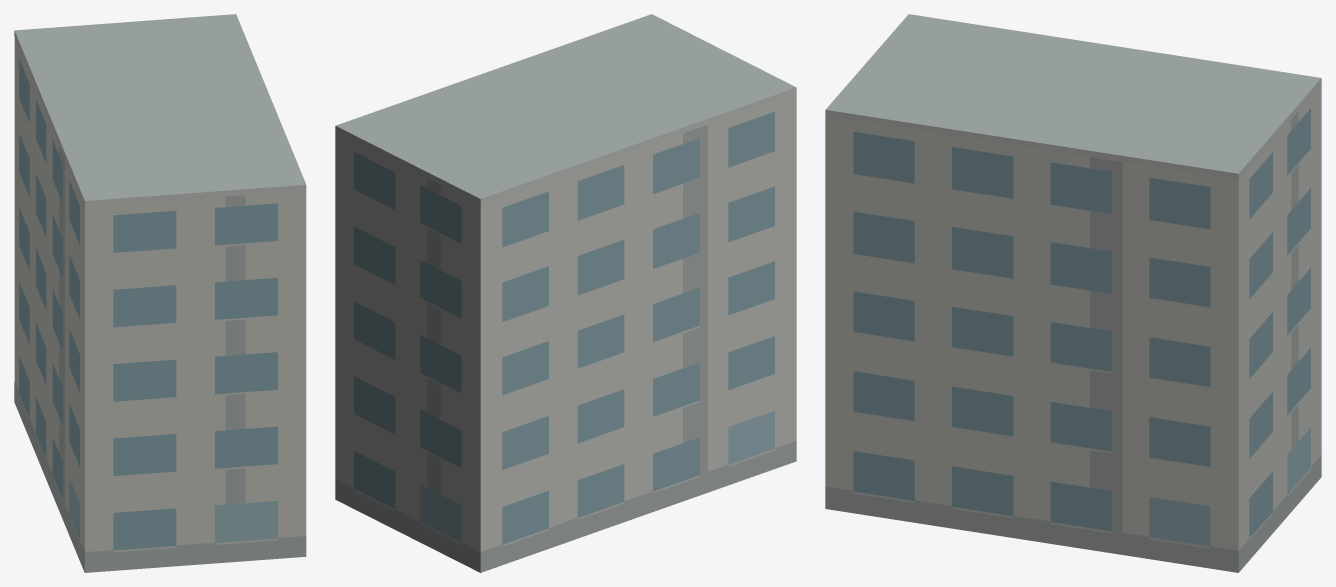
File: residential-6ae58ee1-4b14-4a25-afb3-ebea91efd23b.glb
3 views of the same model, side by side, from view 1: azimuth 30°, elevation 25°; view 2: azimuth 150°, elevation 25°; view 3: azimuth 270°, elevation 25° (orthographic). The views are drawn at different scales.
Visible parts, largest first — view 1: residential-6ae58ee1-4b14-4a25-afb3-ebea91efd23b.tmp; view 2: residential-6ae58ee1-4b14-4a25-afb3-ebea91efd23b.tmp; view 3: residential-6ae58ee1-4b14-4a25-afb3-ebea91efd23b.tmp.
Part boxes in pixels (<box>): residential-6ae58ee1-4b14-4a25-afb3-ebea91efd23b.tmp: <box>14,14,306,572</box>; residential-6ae58ee1-4b14-4a25-afb3-ebea91efd23b.tmp: <box>335,14,796,572</box>; residential-6ae58ee1-4b14-4a25-afb3-ebea91efd23b.tmp: <box>825,14,1321,572</box>.
Size of the model in its own units: 13.1 by 15.25 by 17.19.
